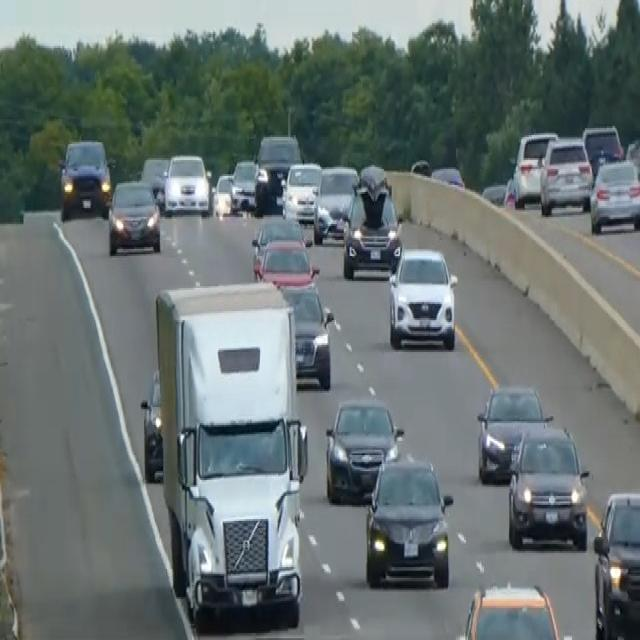car: (364, 450, 453, 588), (506, 422, 589, 550), (324, 395, 403, 503), (476, 380, 551, 482), (386, 244, 458, 350), (453, 578, 572, 638), (341, 164, 402, 279), (592, 489, 639, 638), (279, 279, 334, 389), (58, 135, 113, 219), (539, 133, 593, 215), (107, 176, 161, 254), (589, 156, 639, 234), (312, 162, 359, 244), (254, 132, 302, 210), (512, 128, 558, 204), (254, 236, 320, 288), (250, 213, 306, 274), (163, 151, 210, 215), (139, 366, 164, 482), (280, 160, 322, 222), (581, 123, 623, 174), (230, 156, 258, 212), (139, 155, 168, 206), (212, 171, 235, 215), (430, 164, 464, 188), (409, 156, 431, 176)
lorry: (152, 277, 309, 626)
